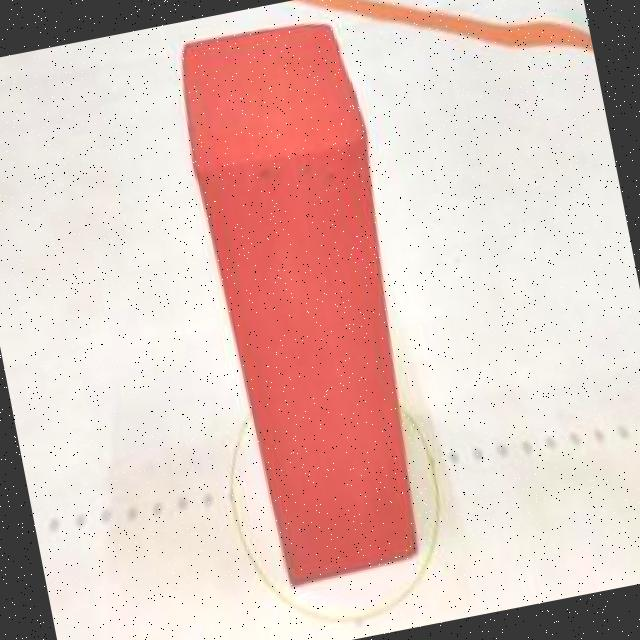redbox: (165, 9, 446, 588)
